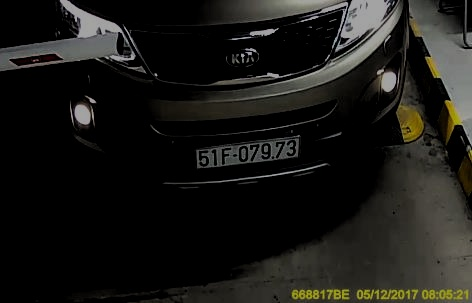plate: (193, 135, 303, 168)
